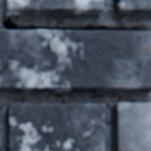brick: (0, 30, 150, 92), (6, 104, 104, 150), (112, 104, 150, 150), (5, 0, 102, 15), (113, 0, 150, 16)
crack: (1, 0, 149, 31), (3, 49, 13, 69)
